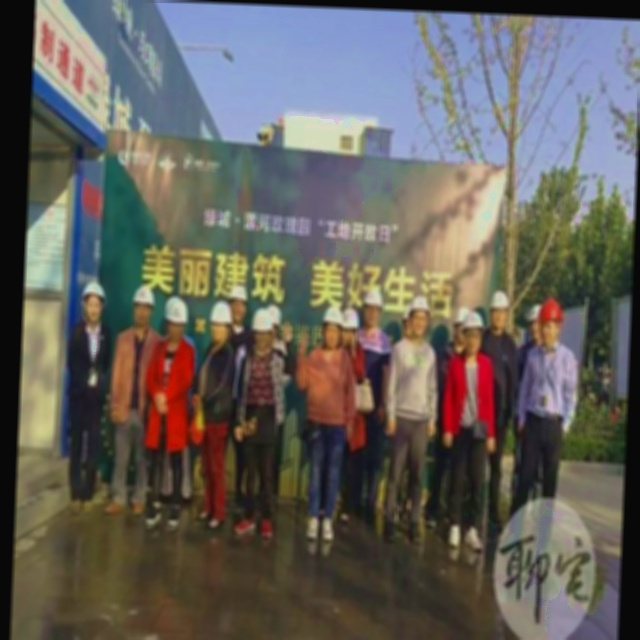Sin_Chaleco: (445, 350, 494, 438), (307, 344, 351, 428), (391, 336, 436, 418), (70, 319, 114, 386)
